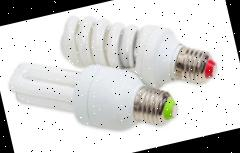lightbulb: (3, 29, 180, 153), (53, 0, 220, 111)
